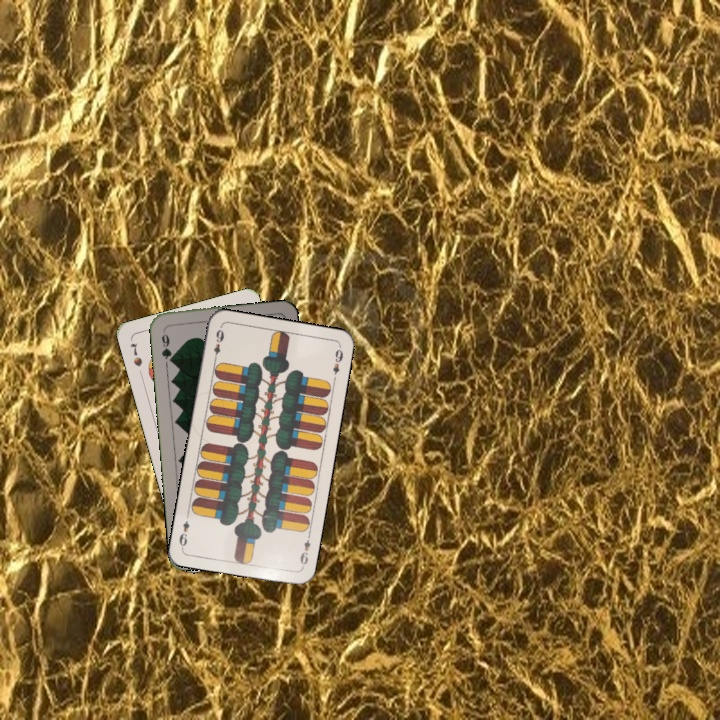E9: (210, 324, 227, 364), (296, 530, 313, 570)
G9: (157, 326, 175, 366)
S7: (126, 339, 145, 369)
